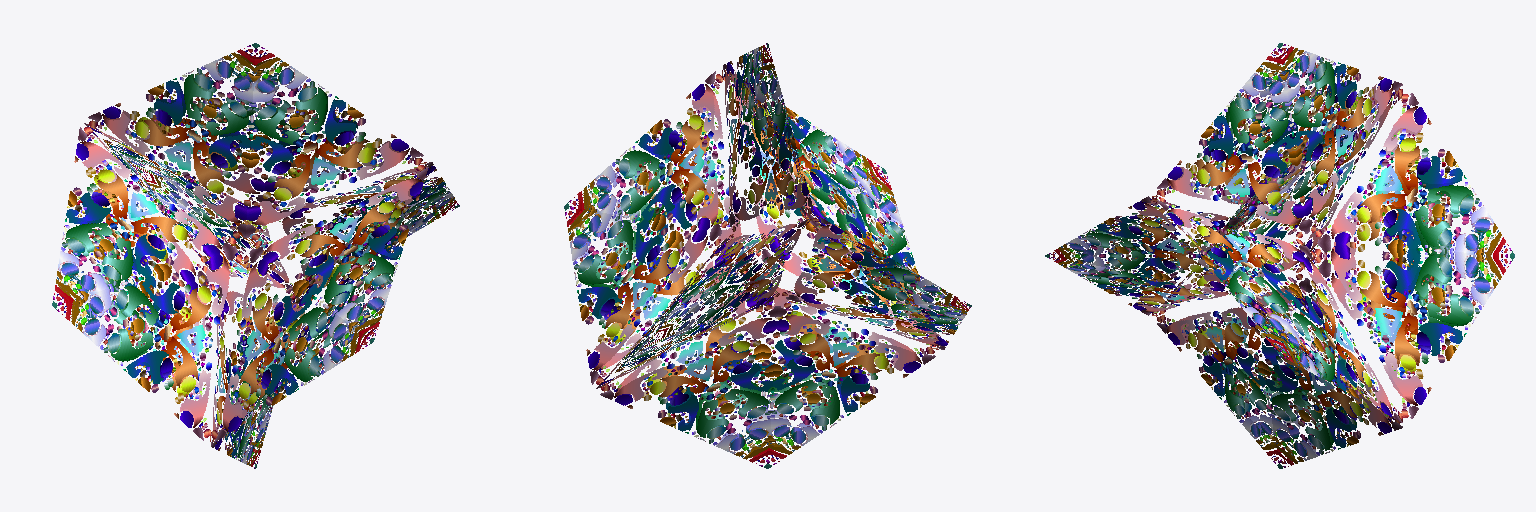
The picture shows the model from 3 angles: view 1: azimuth 30°, elevation 25°; view 2: azimuth 150°, elevation 25°; view 3: azimuth 270°, elevation 25°; orthographic projection.
Bounding box in the file's own units: 2.24 × 2.24 × 2.24.
Materials: 1 (1 with a texture image).